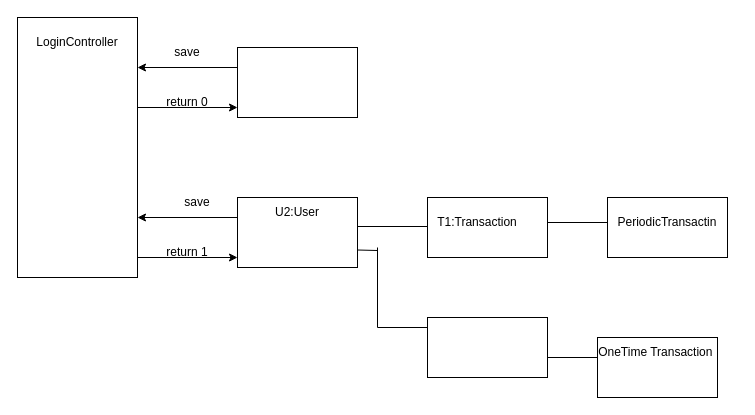
This 755x415 diagram has some shape labels left out. Here are the shapes that lost their labels. From the top down, the centre of each, then its label:
point 297,82: U1:User
point 487,347: T2:Transaction
